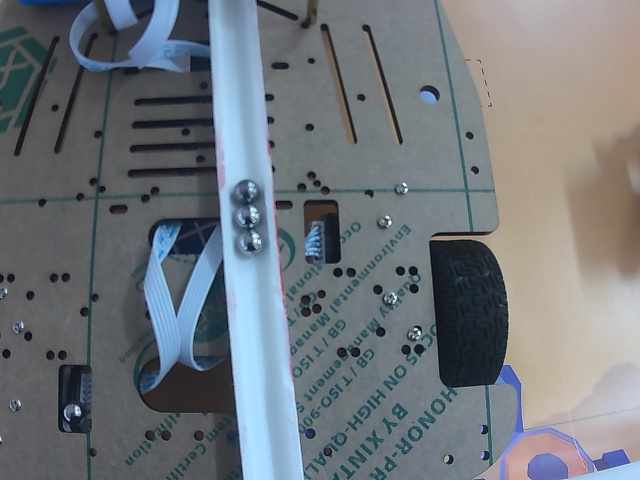steelball: (236, 231, 262, 257), (234, 205, 259, 228), (233, 179, 257, 202)
